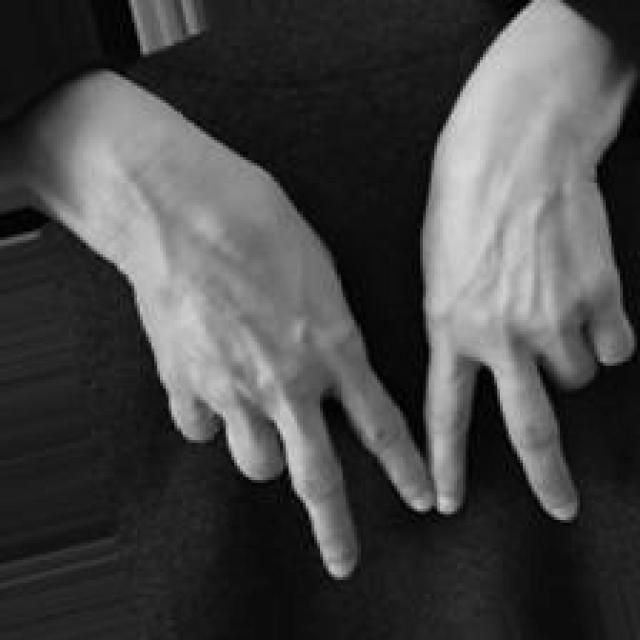M: (131, 80, 640, 589)
